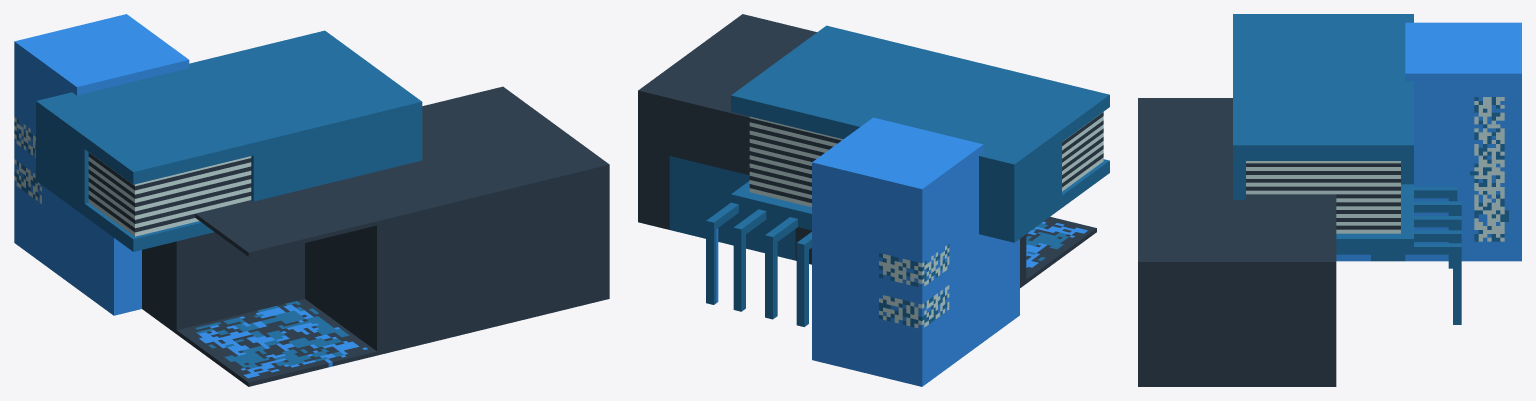
File: home2less.obj
3 views of the same model, side by side, from view 1: azimuth 30°, elevation 25°; view 2: azimuth 150°, elevation 25°; view 3: azimuth 270°, elevation 25° (orthographic). The views are drawn at different scales.
Bounding box in the file's own units: 106 × 48 × 89.
Materials: 1 (1 with a texture image).
